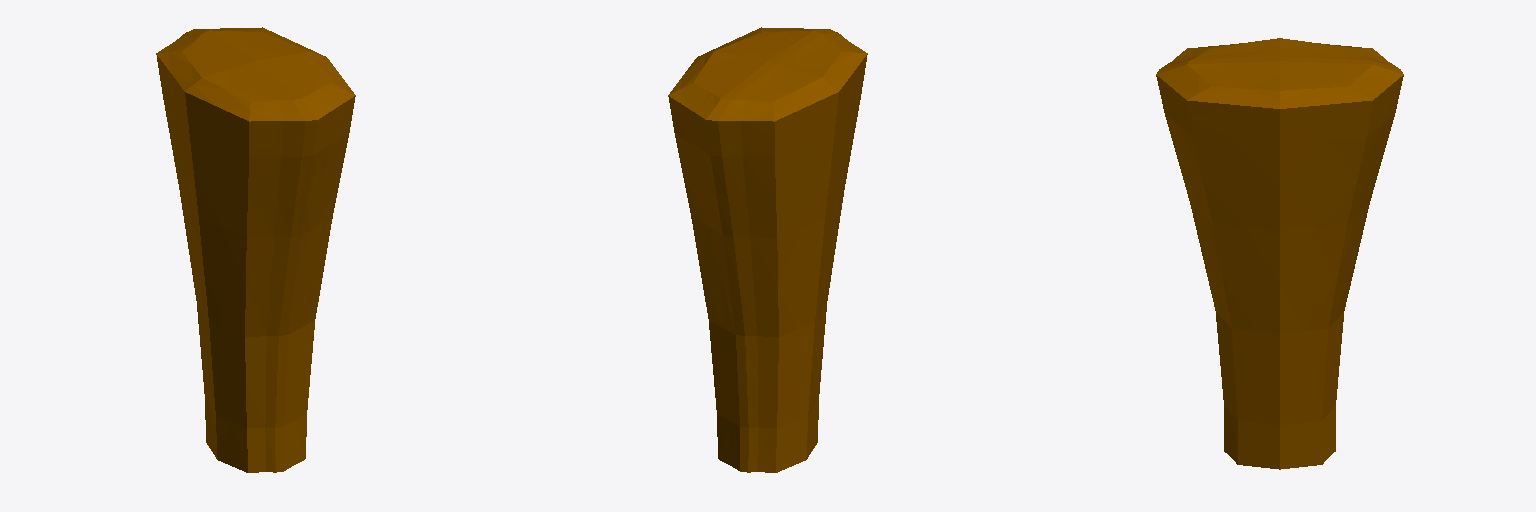
The model's file is lufoot.obj.
3 views of the same model, side by side, from view 1: azimuth 30°, elevation 25°; view 2: azimuth 150°, elevation 25°; view 3: azimuth 270°, elevation 25° (orthographic).
Parts seen in each view (by area): view 1: pasted__pCube29 group; view 2: pasted__pCube29 group; view 3: pasted__pCube29 group.
Boxes of the visible parts, box(x1,y1,x2,y2) form: pasted__pCube29 group: box(156, 27, 355, 472); pasted__pCube29 group: box(668, 27, 867, 472); pasted__pCube29 group: box(1156, 38, 1403, 469).
Bounding box in the file's own units: 1.26 × 3.31 × 1.91.